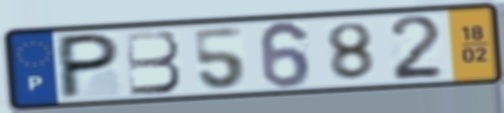2: (386, 14, 448, 83)
5: (191, 24, 249, 92)
6: (259, 19, 312, 91)
8: (323, 21, 378, 82)
B: (122, 28, 185, 98)
P: (56, 31, 124, 102)
